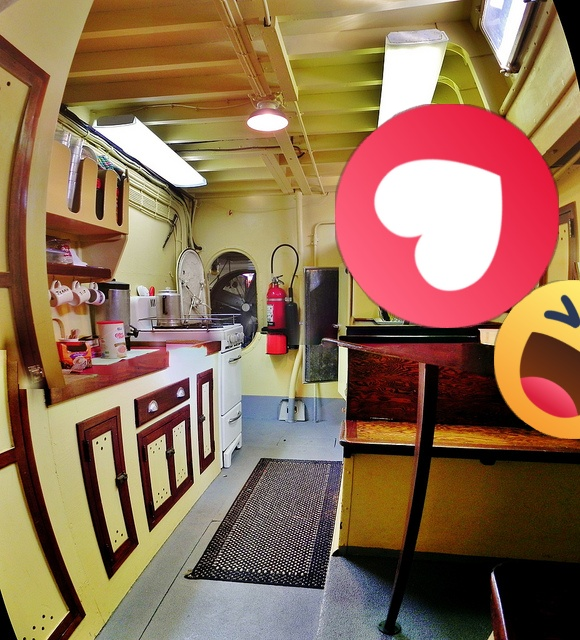haha: (494, 280, 580, 439)
love: (335, 104, 559, 328)
